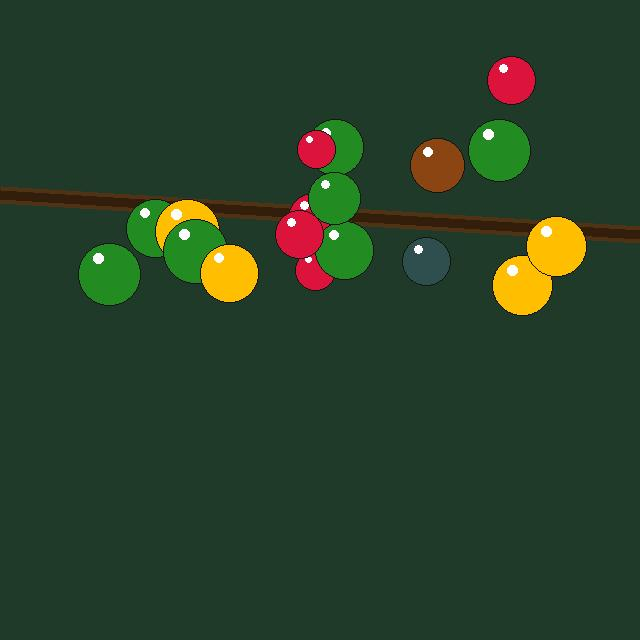Dry_Damaged: (402, 237, 450, 285)
Overripe: (410, 138, 464, 192)
Ripe: (288, 193, 338, 243), (487, 56, 535, 104), (275, 210, 323, 258), (295, 250, 335, 290), (203, 259, 241, 297), (297, 130, 335, 168)
Ripening: (155, 199, 219, 263), (492, 255, 552, 315), (526, 216, 586, 276), (200, 244, 258, 302)
Unripe: (163, 219, 227, 283), (468, 119, 530, 181), (78, 243, 140, 305), (315, 221, 373, 279), (126, 199, 184, 257), (307, 119, 363, 175), (308, 172, 360, 224)
